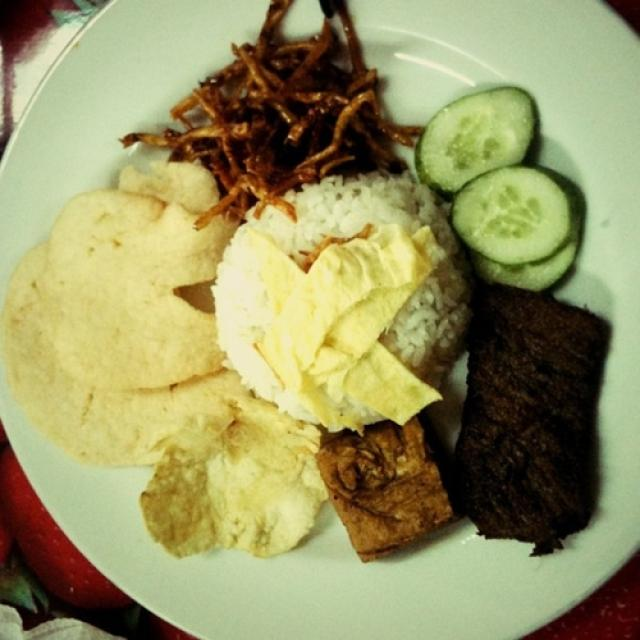米饭主食: (26, 20, 599, 608)
